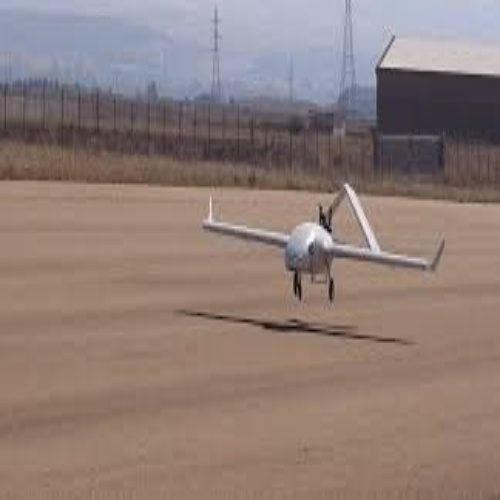uav: (200, 185, 447, 301)
